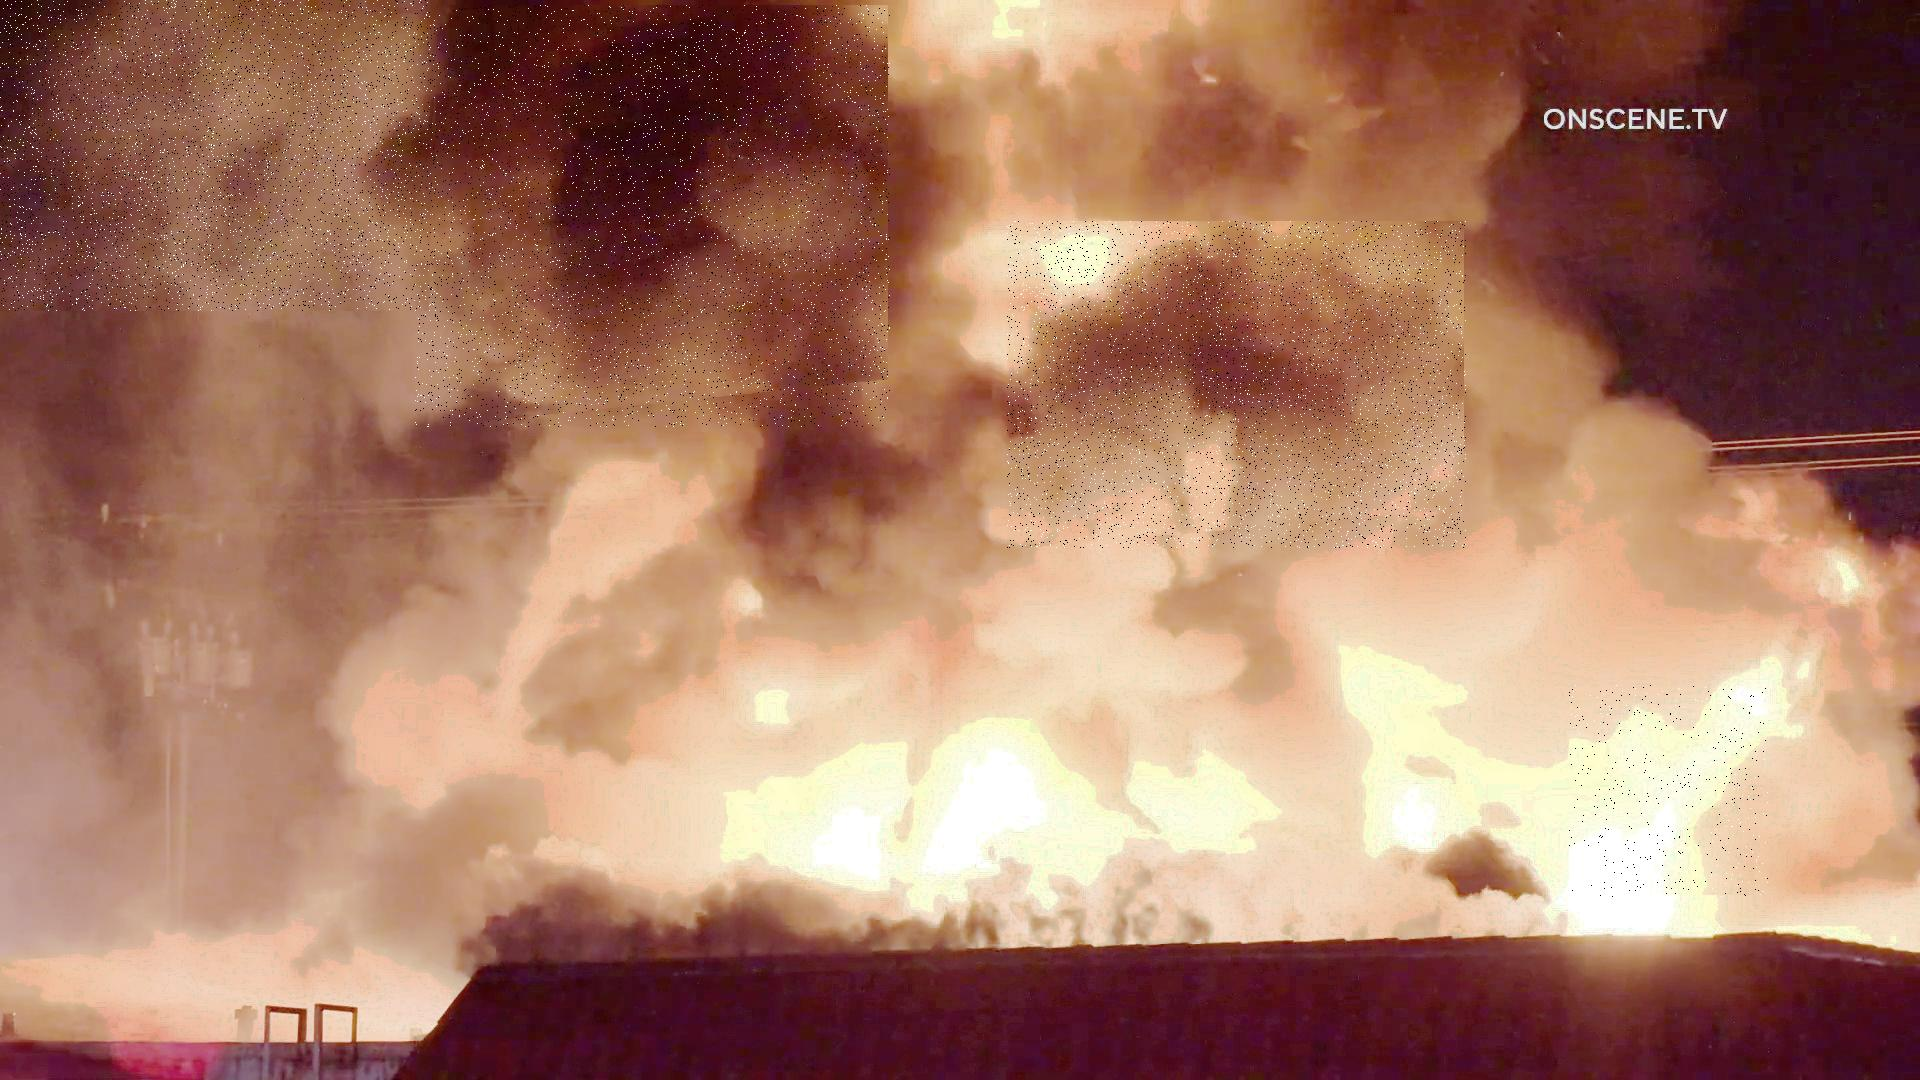fire: (1569, 686, 1768, 898)
smoke: (415, 5, 891, 427), (1007, 222, 1466, 549), (0, 0, 436, 311)
